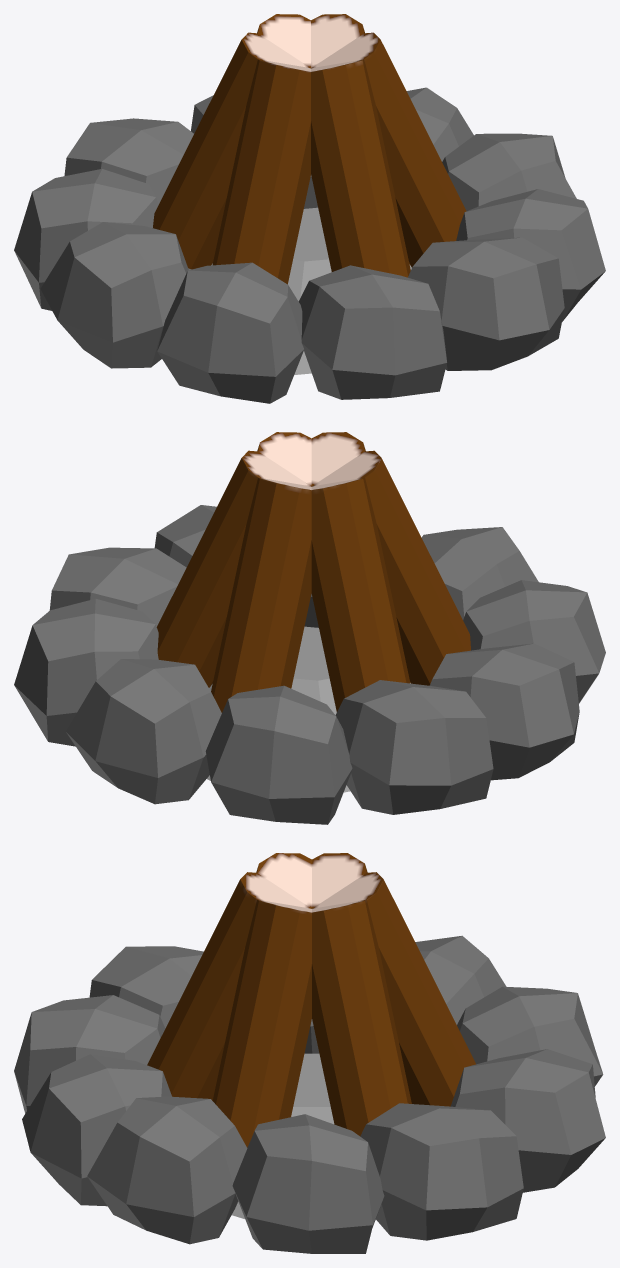
Rendered from Bonfire.fbx.
3 views of the same model, one above another, from view 1: azimuth 30°, elevation 25°; view 2: azimuth 150°, elevation 25°; view 3: azimuth 270°, elevation 25° (orthographic). The views are drawn at different scales.
Parts seen in each view (by area): view 1: Ash.001; view 2: Ash.001; view 3: Ash.001.
Part boxes in pixels (x1,y1,x2,y2): Ash.001: (14, 14, 605, 403); Ash.001: (14, 432, 605, 824); Ash.001: (14, 853, 605, 1253).
Bounding box in the file's own units: 85.25 × 41.38 × 82.36.
4 materials, 4 textured.
